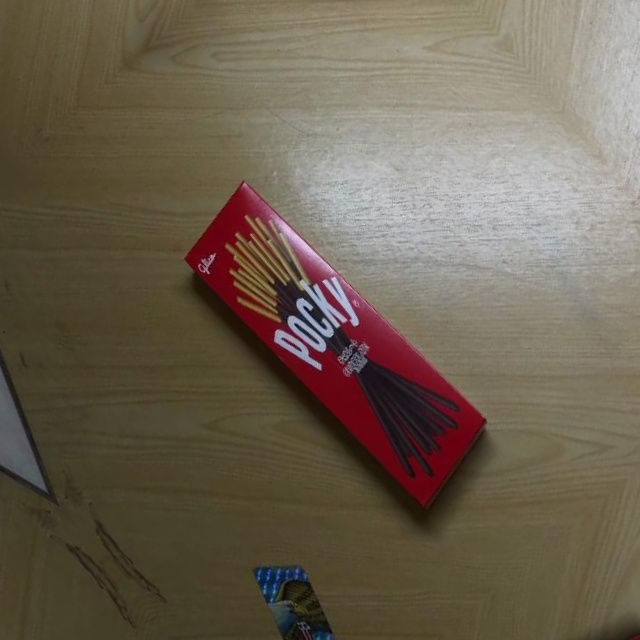Pocky: (168, 156, 506, 524)
